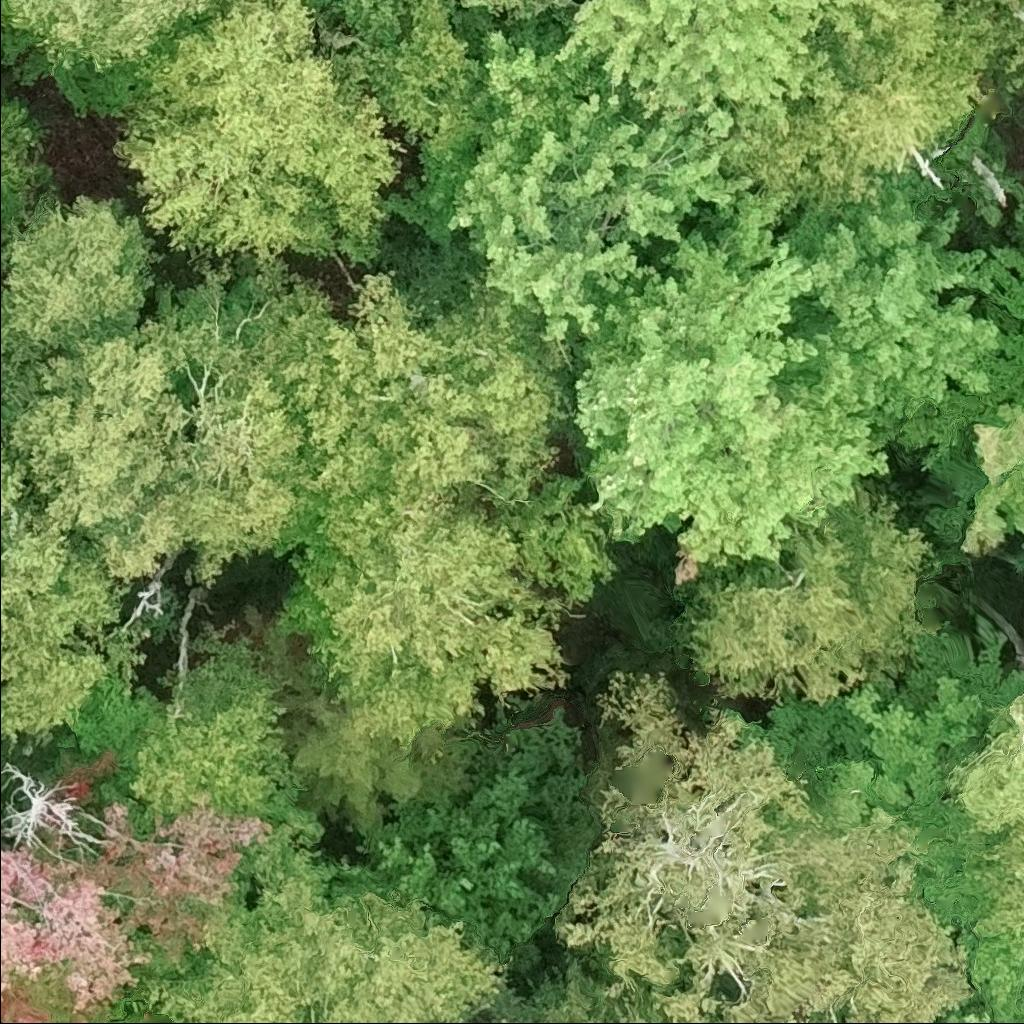crown: (551, 668, 980, 1023), (566, 190, 909, 585), (384, 12, 758, 370), (1, 273, 305, 586), (268, 483, 622, 751), (109, 0, 407, 287), (247, 259, 563, 513), (328, 707, 601, 979), (781, 186, 1023, 472), (142, 840, 513, 1023), (721, 0, 1003, 232), (673, 488, 944, 706), (764, 615, 1023, 806), (260, 631, 494, 840), (103, 633, 323, 849), (518, 0, 898, 125), (73, 791, 278, 974), (0, 489, 123, 756), (0, 193, 168, 384), (0, 847, 160, 1013), (330, 0, 479, 146), (955, 690, 1023, 962), (0, 0, 222, 78), (489, 960, 729, 1023), (950, 363, 1023, 559), (0, 101, 55, 231), (0, 966, 123, 1023), (456, 0, 580, 28), (0, 432, 26, 524), (109, 993, 169, 1023), (1000, 24, 1023, 89), (800, 1010, 832, 1023), (992, 0, 1006, 10), (1020, 342, 1023, 361), (0, 736, 0, 750)
